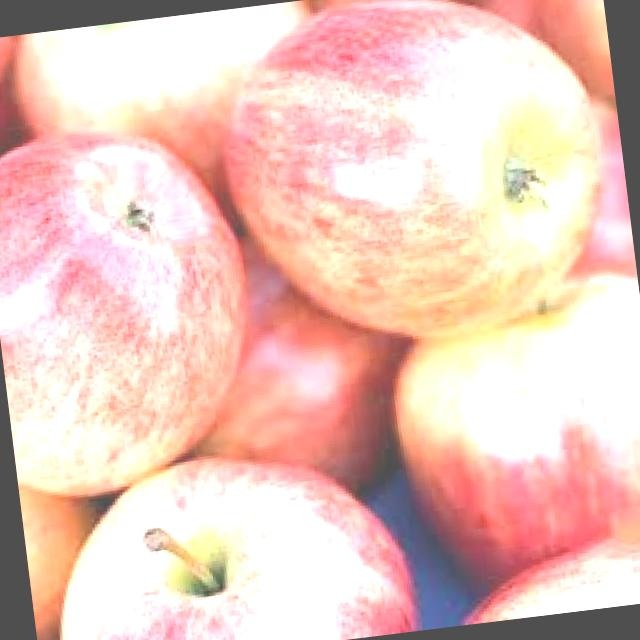Apple: (204, 0, 622, 359), (0, 109, 268, 504), (375, 268, 640, 596), (33, 429, 419, 640), (165, 216, 408, 516), (1, 2, 327, 218)
